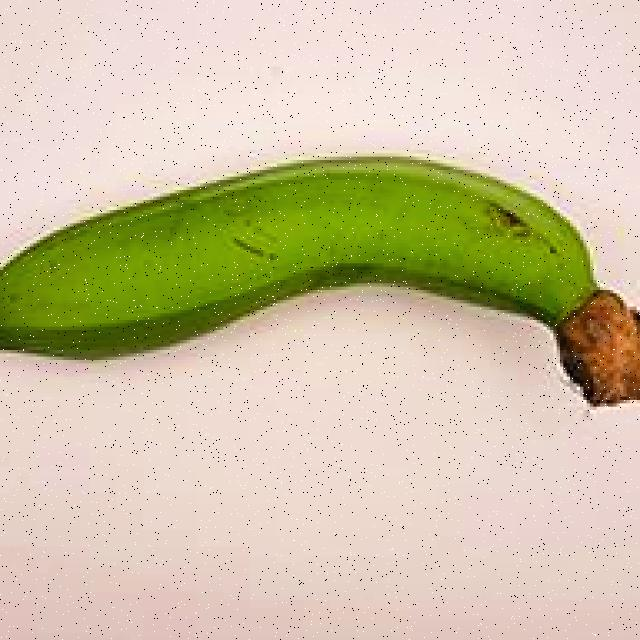Raw: (0, 113, 640, 470)
